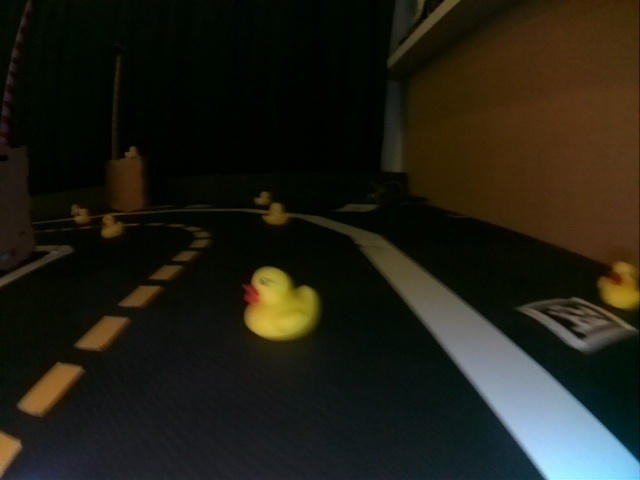Duckie: (243, 269, 318, 331), (599, 264, 638, 309), (263, 202, 288, 225), (101, 217, 122, 238), (255, 191, 271, 204), (75, 209, 89, 223), (127, 146, 137, 158), (70, 205, 81, 213)
QR code: (517, 297, 635, 352)
